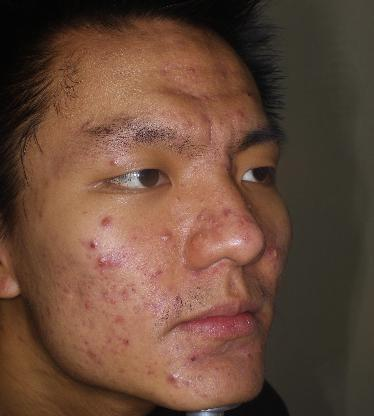Blackheads: (182, 348, 204, 368), (82, 235, 102, 254)
Papules: (92, 252, 117, 274), (164, 367, 181, 389), (96, 212, 114, 230), (217, 204, 235, 221), (105, 154, 120, 170), (158, 229, 173, 245), (269, 243, 281, 262)
